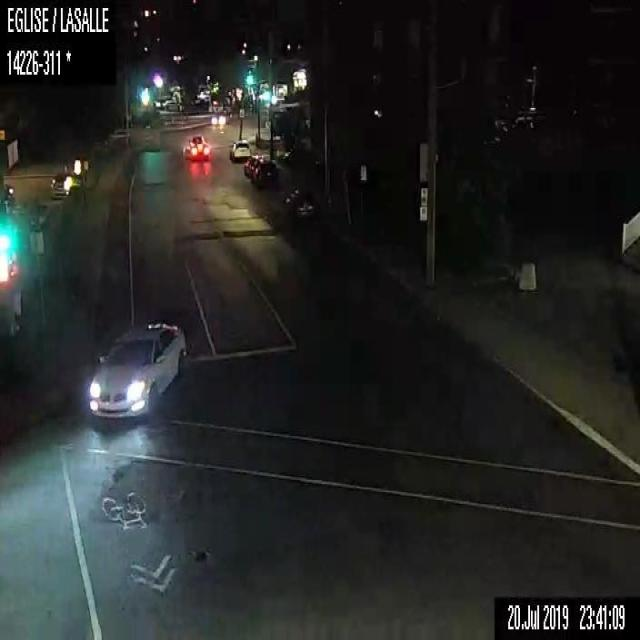vehicle: (86, 318, 188, 422), (281, 184, 323, 223), (252, 158, 280, 187), (183, 133, 212, 160), (48, 170, 72, 198), (228, 138, 250, 161), (243, 153, 261, 176), (210, 112, 225, 125)
